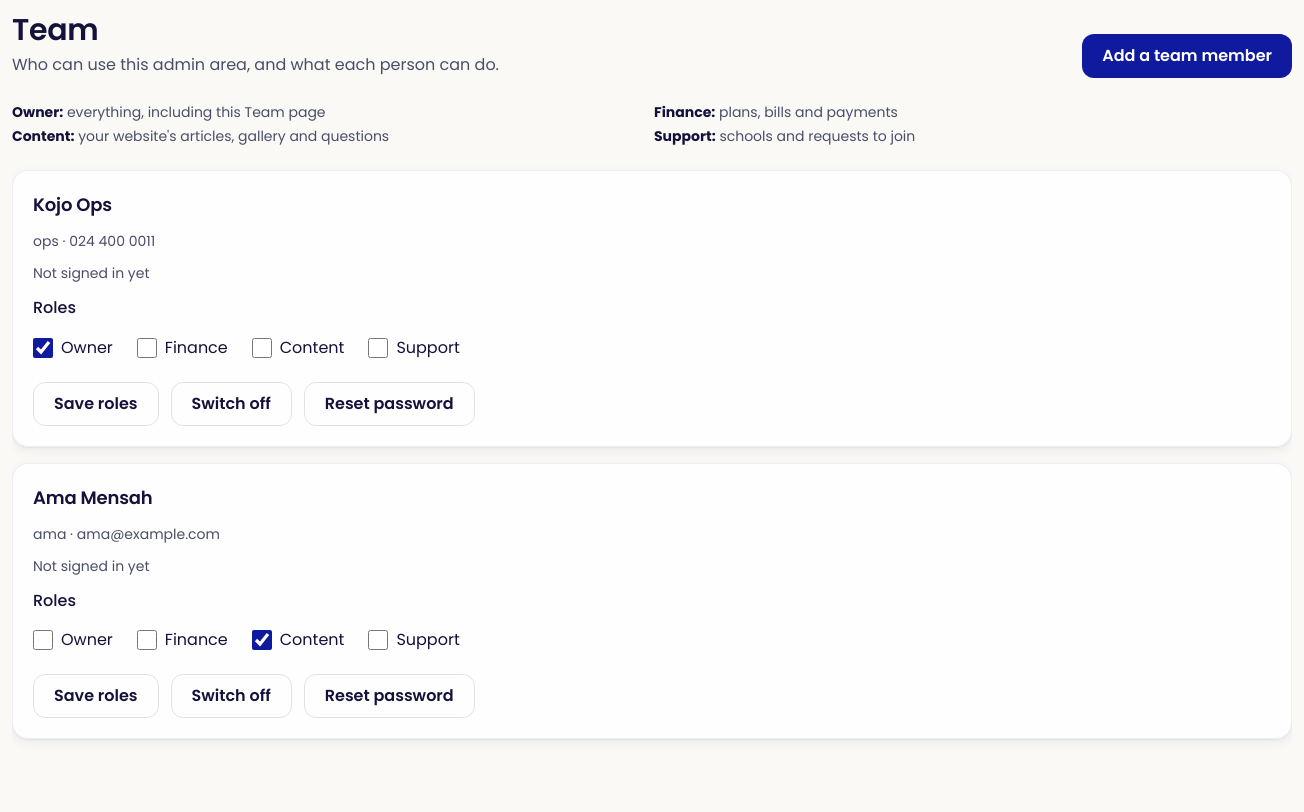
Scenario: TeamView › changes roles
This screenshot has width=1304, height=812.
Click the checkbox labelled "Support" below "ama · ama@example.com" at (378, 640), box left=368, top=630, right=388, bottom=650
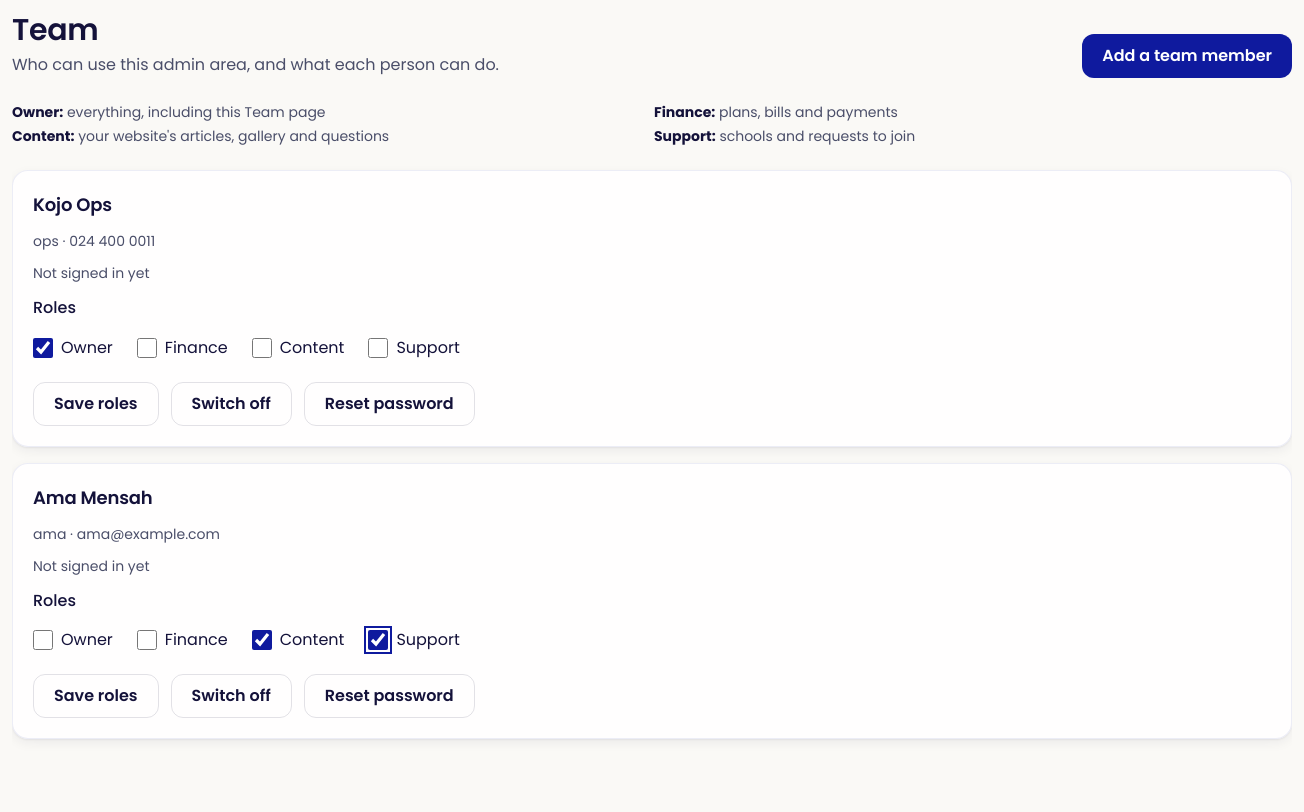
Click the button "Save roles" below "ama · ama@example.com" at (96, 696), box left=33, top=674, right=159, bottom=718
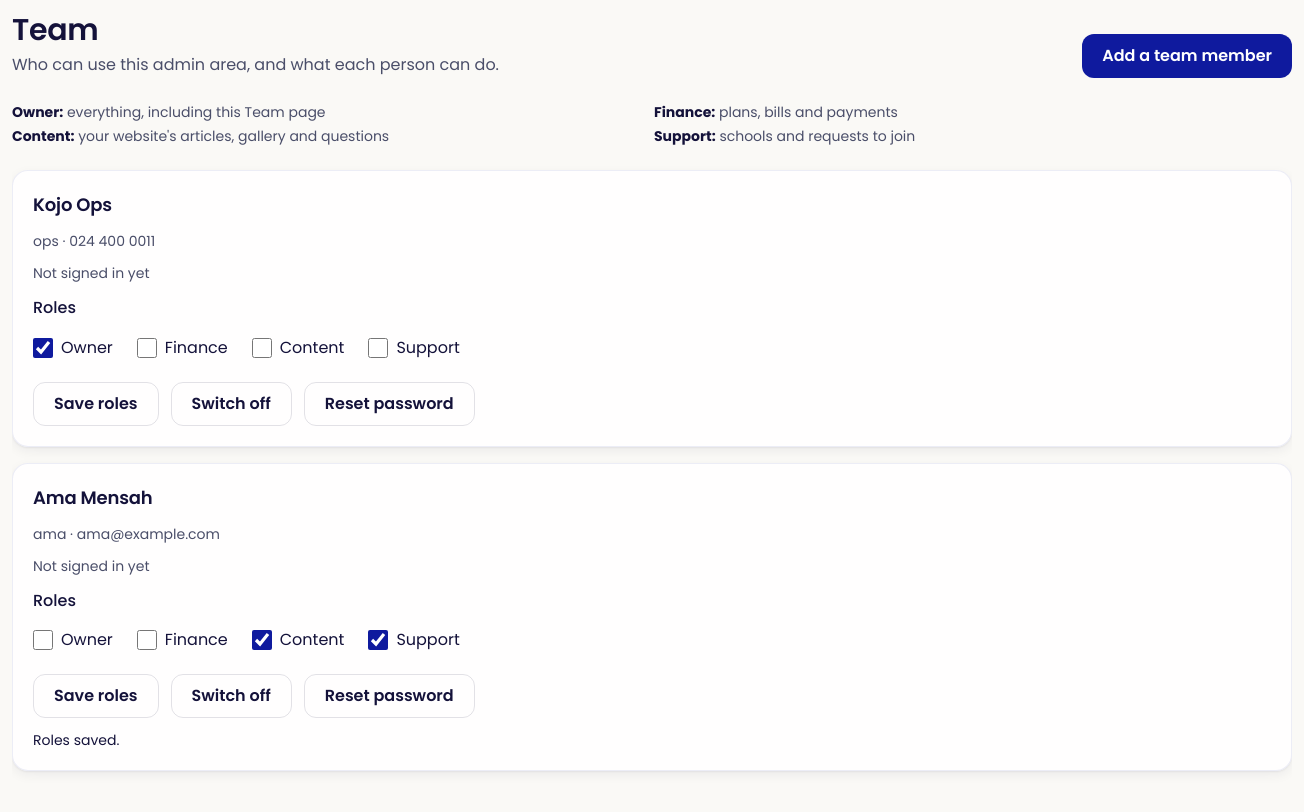
Check: the text "Roles saved." is shown, box left=33, top=730, right=119, bottom=750
